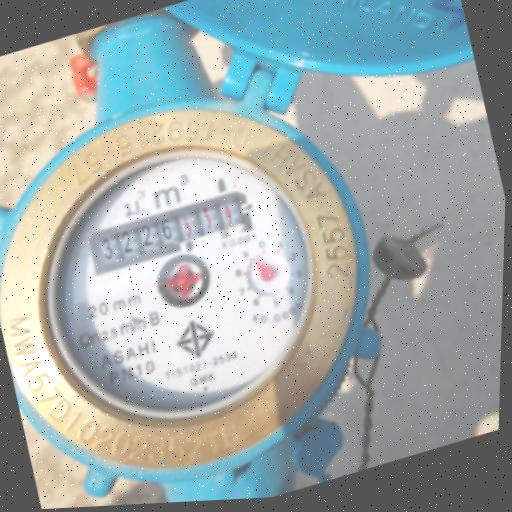2: (117, 228, 139, 260), (137, 222, 159, 254)
3: (97, 234, 120, 266)
5: (177, 209, 199, 240), (197, 204, 219, 234)
6: (157, 215, 179, 246)
9: (217, 197, 239, 229)
border_water_meter_number: (84, 187, 254, 279)
